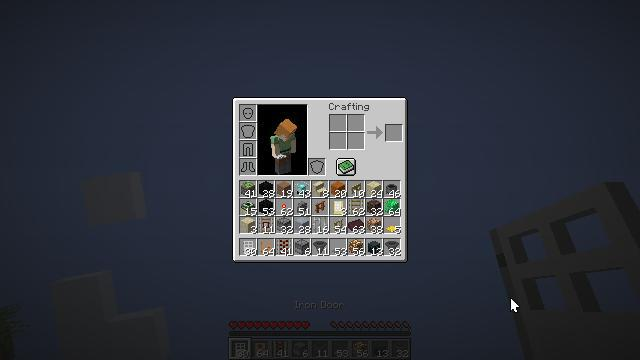cursor: (510, 297, 520, 313)
